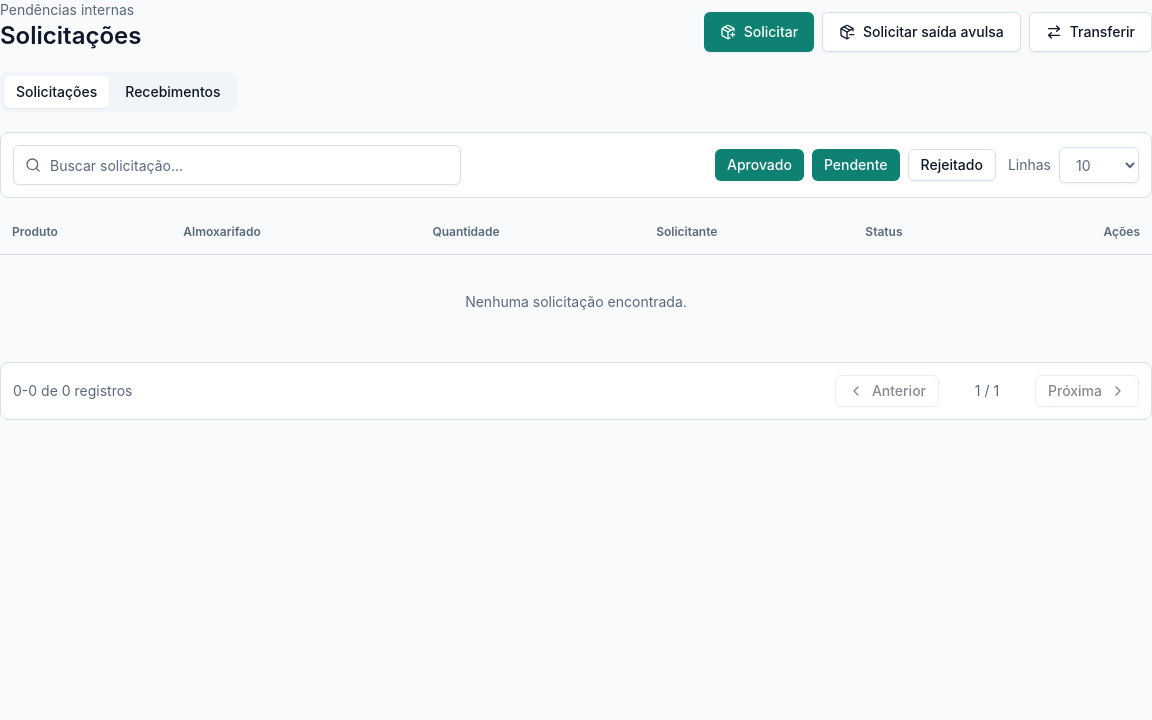
Test: RequestsPage › opens a transfer dialog from requests page with destination warehouse
What coordinates should you click on to do the following:
click the button "Transferir"
I would click on:
 (1090, 32)
Its box is [1029,12,1151,52].
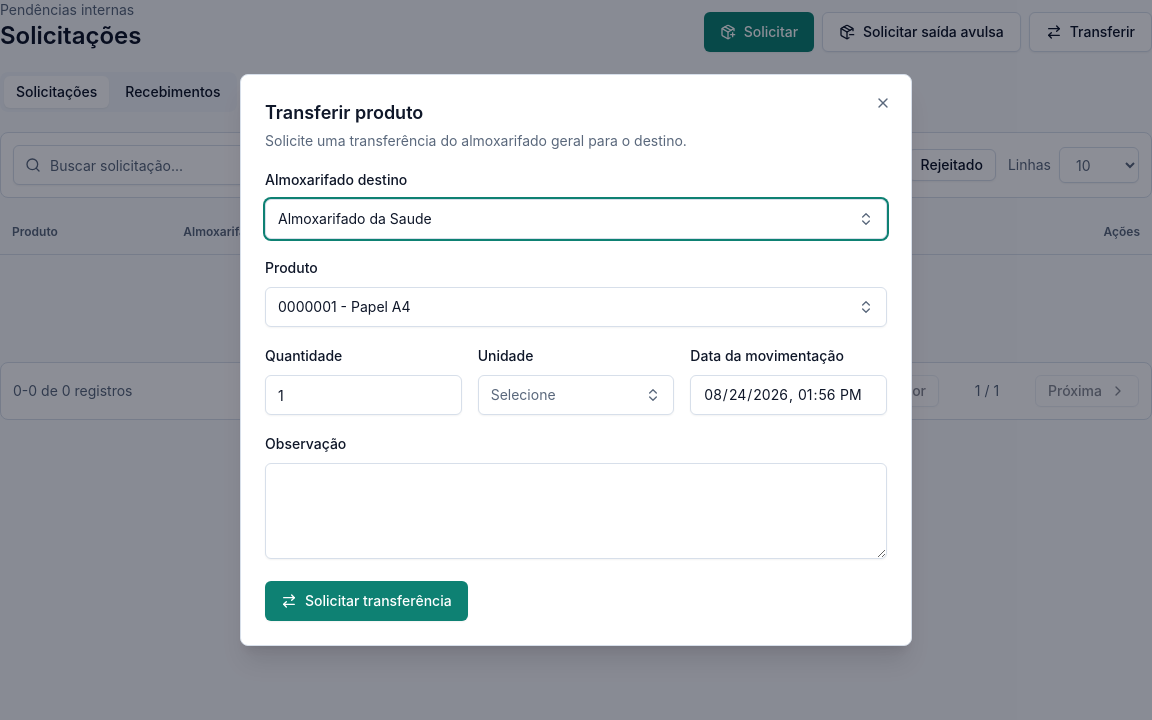
Result: the dialog "Transferir produto" is shown at [240,74,912,646]
Result: the button with aria-label "Almoxarifado destino" is shown at [265,199,887,239]
Result: the button with aria-label "Produto" is shown at [265,287,887,327]
